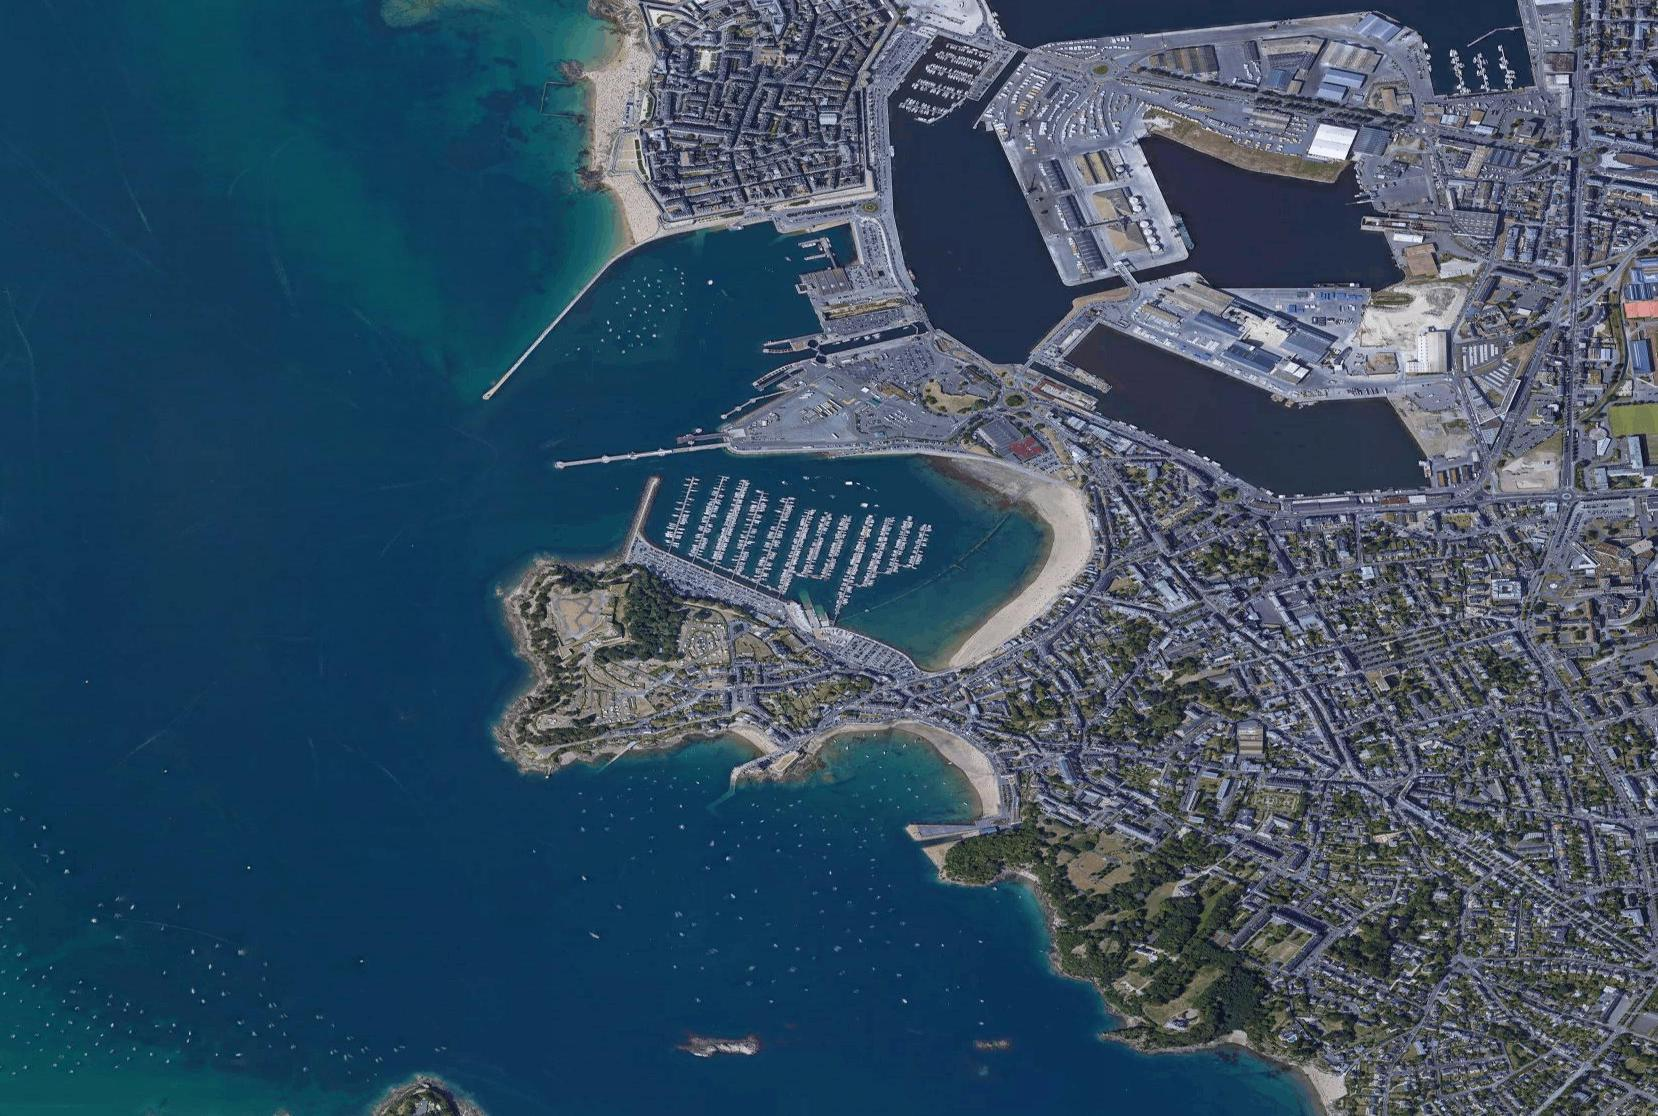harbor: (460, 219, 1092, 777), (882, 1, 1543, 498)
